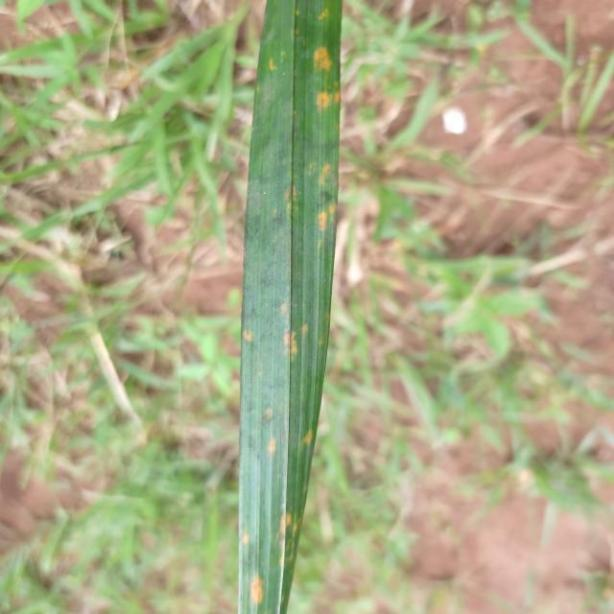Kalium: (237, 0, 337, 614)
